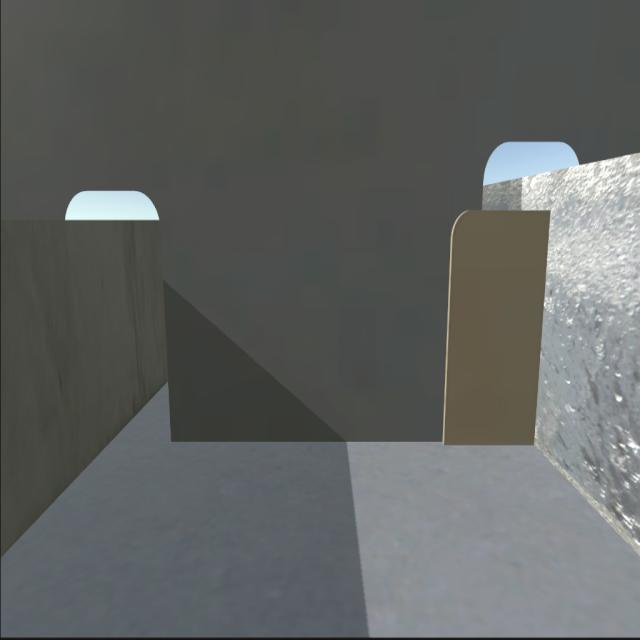fillet_yong_jeop_jang: (168, 426, 537, 457)
longi_yong_jeop_jang: (524, 210, 555, 453)
plate_CP05: (448, 205, 543, 449)
